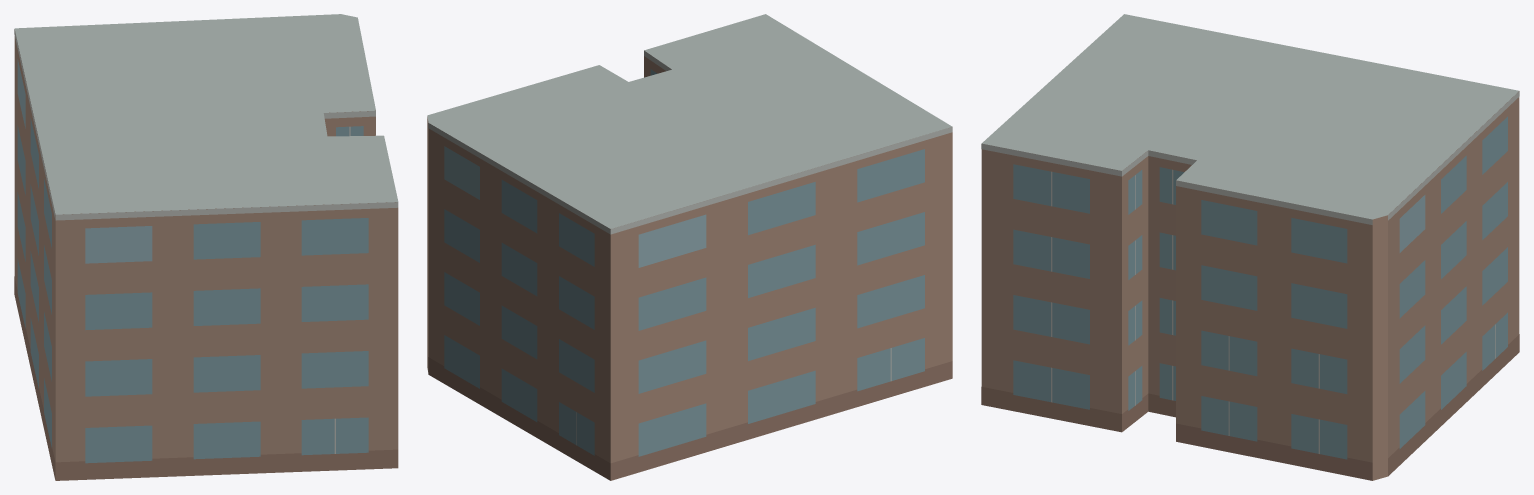
The model's file is survey-upis-32780461.glb.
3 renders of one model, left to right at view 1: azimuth 30°, elevation 25°; view 2: azimuth 150°, elevation 25°; view 3: azimuth 270°, elevation 25°, orthographic. The views are drawn at different scales.
Parts seen in each view (by area): view 1: survey-upis-32780461.tmp; view 2: survey-upis-32780461.tmp; view 3: survey-upis-32780461.tmp.
Boxes of the visible parts, left/top/right/bottom form: survey-upis-32780461.tmp: left=14, top=14, right=398, bottom=480; survey-upis-32780461.tmp: left=427, top=14, right=952, bottom=480; survey-upis-32780461.tmp: left=981, top=14, right=1519, bottom=480.
Size of the model in its own units: 18.89 by 11.2 by 20.9.
